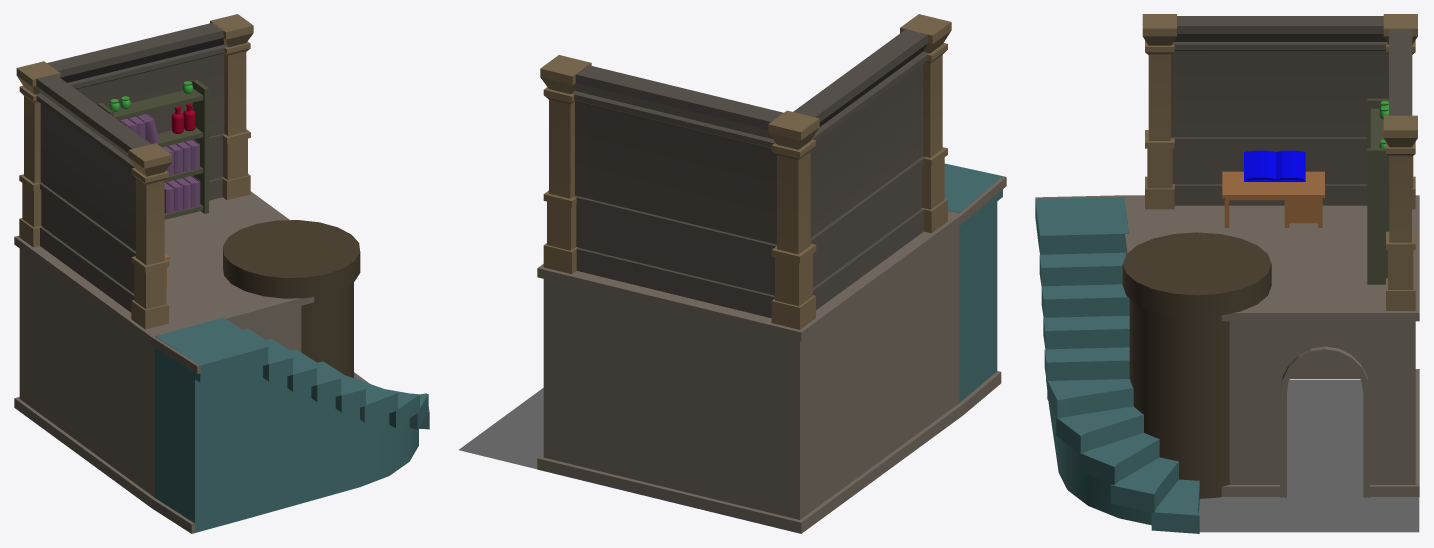
File: MagicStudio.fbx
The picture shows the model from 3 angles, left to right: view 1: azimuth 30°, elevation 25°; view 2: azimuth 150°, elevation 25°; view 3: azimuth 270°, elevation 25°; orthographic projection. The views are drawn at different scales.
Visible parts, largest first — view 1: Escaleras, Base, Pared2, PilarCentral, Pared1, Pilar4, Pilar3, Estanteria, Pilar2, Libros, Botellas; view 2: Base, Pared1, Pared2, Escaleras, Pilar2, Pilar3, Pilar4, Floor; view 3: Base, Pared2, Escaleras, PilarCentral, Floor, Pilar3, Pilar4, Estanteria, Escritorio, Pared1, LibroGrande, Pilar2.
Boxes of the visible parts, <box> form: Escaleras: <box>155,317,429,532</box>; Base: <box>14,191,314,533</box>; Pared2: <box>35,74,150,312</box>; PilarCentral: <box>223,220,360,377</box>; Pared1: <box>47,22,226,200</box>; Pilar4: <box>128,143,171,329</box>; Pilar3: <box>210,14,253,199</box>; Estanteria: <box>97,79,208,219</box>; Pilar2: <box>16,61,60,247</box>; Libros: <box>119,113,200,213</box>; Botellas: <box>171,103,195,133</box>; Base: <box>537,176,1006,533</box>; Pared1: <box>571,65,783,318</box>; Pared2: <box>793,29,929,310</box>; Escaleras: <box>944,163,1002,402</box>; Pilar2: <box>768,110,819,329</box>; Pilar3: <box>540,55,591,274</box>; Pilar4: <box>900,14,951,233</box>; Floor: <box>459,388,543,469</box>; Base: <box>1035,195,1419,497</box>; Pared2: <box>1171,16,1388,205</box>; Escaleras: <box>1035,196,1199,533</box>; PilarCentral: <box>1122,232,1271,498</box>; Floor: <box>1199,380,1419,532</box>; Pilar3: <box>1383,115,1417,310</box>; Pilar4: <box>1142,14,1176,209</box>; Estanteria: <box>1367,98,1389,284</box>; Escritorio: <box>1222,171,1324,227</box>; Pared1: <box>1389,28,1412,115</box>; LibroGrande: <box>1244,150,1305,181</box>; Pilar2: <box>1383,14,1417,209</box>.
Size of the model in its own units: 4.06 by 4.48 by 4.27.
